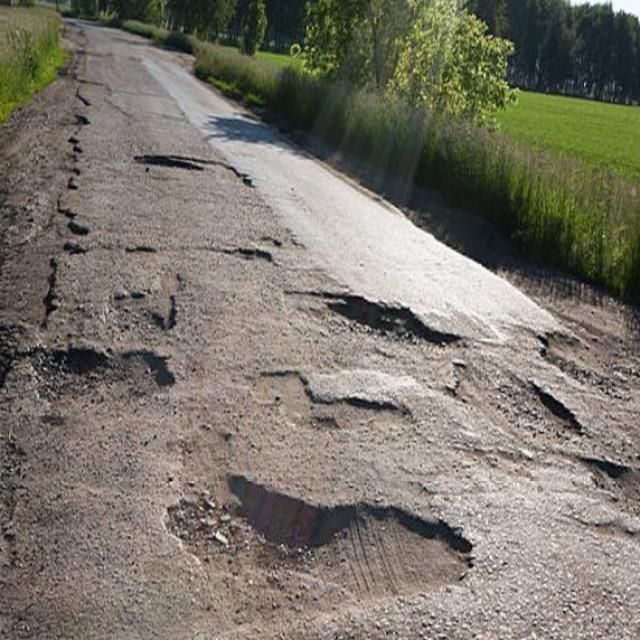Lubang: (161, 477, 467, 605), (21, 341, 192, 410), (245, 369, 413, 431), (289, 290, 446, 353), (454, 359, 570, 441), (137, 154, 243, 184)
Pinggir: (0, 79, 98, 354)
